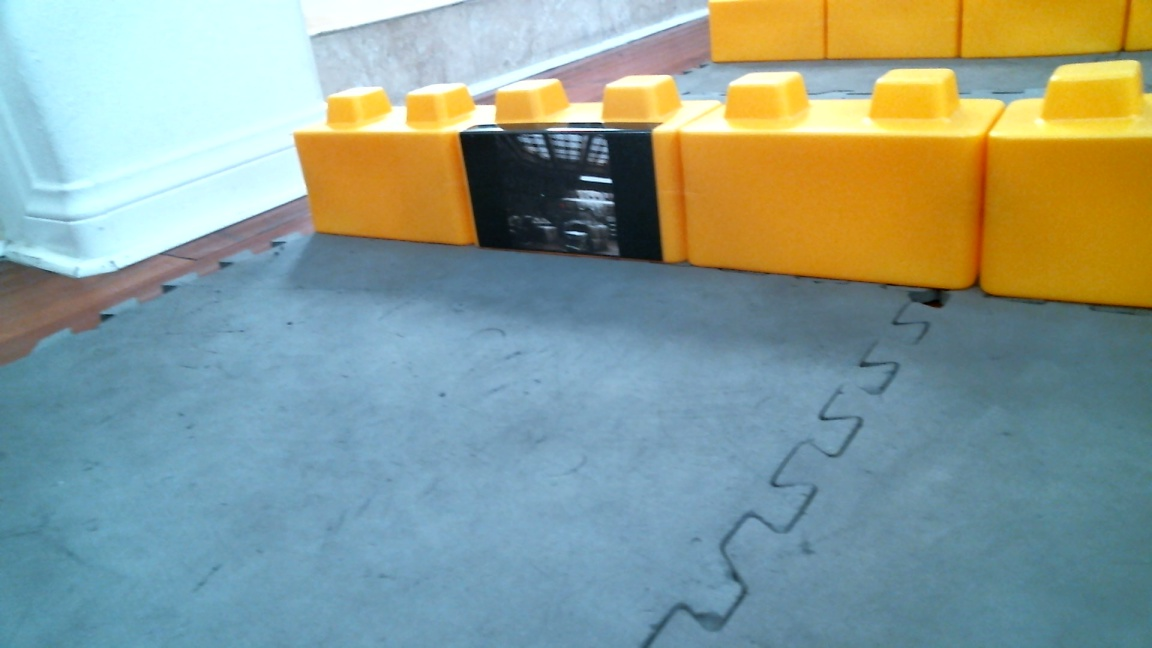skystone: (465, 73, 667, 254)
stone: (678, 66, 978, 270), (976, 59, 1152, 311), (299, 76, 464, 225)
